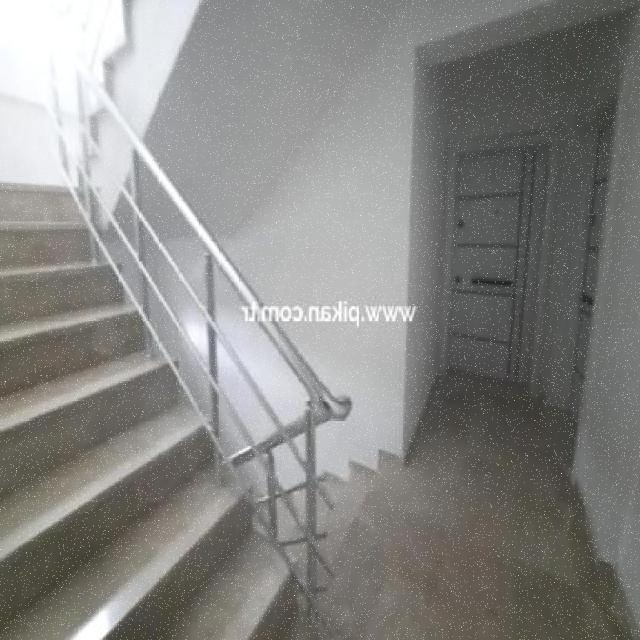stair: (1, 184, 321, 640), (68, 0, 167, 158)
